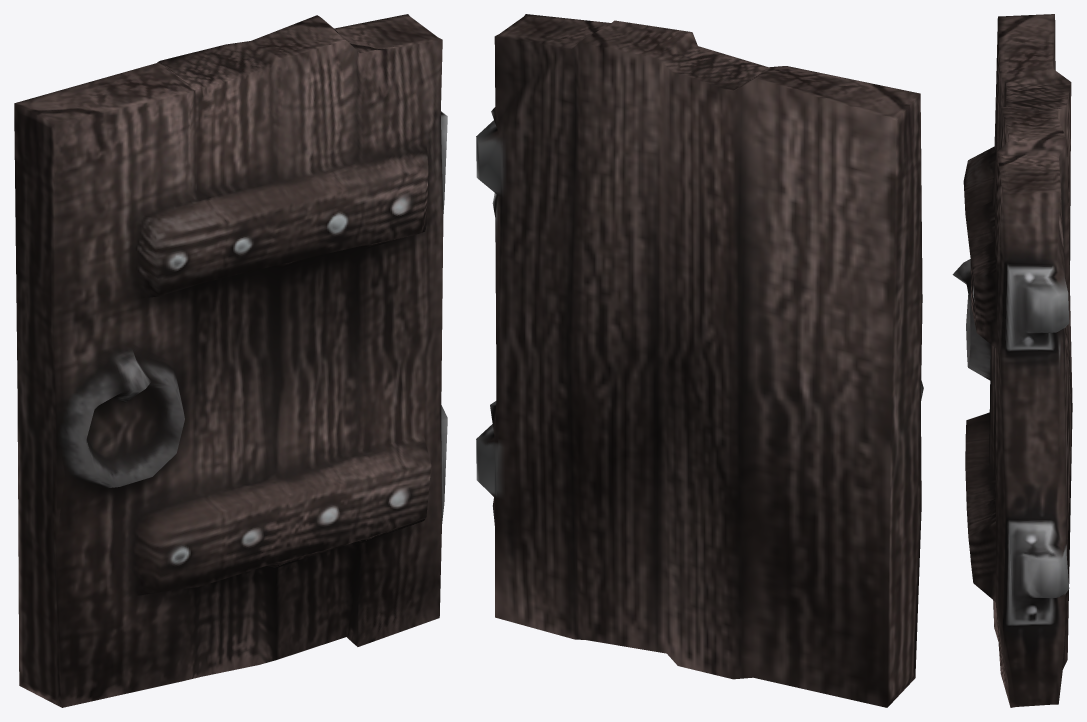
File: Window Gate.FBX
3 renders of one model, left to right at view 1: azimuth 30°, elevation 25°; view 2: azimuth 150°, elevation 25°; view 3: azimuth 270°, elevation 25°, orthographic. The views are drawn at different scales.
Parts seen in each view (by area): view 1: Window Gate; view 2: Window Gate; view 3: Window Gate.
Boxes of the visible parts, left/top/right/bottom form: Window Gate: left=14, top=14, right=447, bottom=707; Window Gate: left=476, top=14, right=923, bottom=707; Window Gate: left=952, top=14, right=1072, bottom=707.
Size of the model in its own units: 46.37 by 13.11 by 64.29.
Materials: 1 (1 with a texture image).
